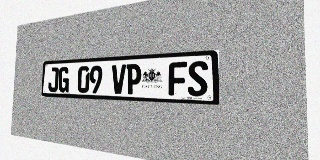0: (77, 66, 90, 93)
9: (89, 65, 103, 93)
F: (168, 62, 187, 96)
G: (58, 67, 69, 92)
J: (48, 67, 59, 92)
P: (126, 64, 141, 95)
S: (188, 61, 208, 97)
V: (111, 64, 126, 94)
